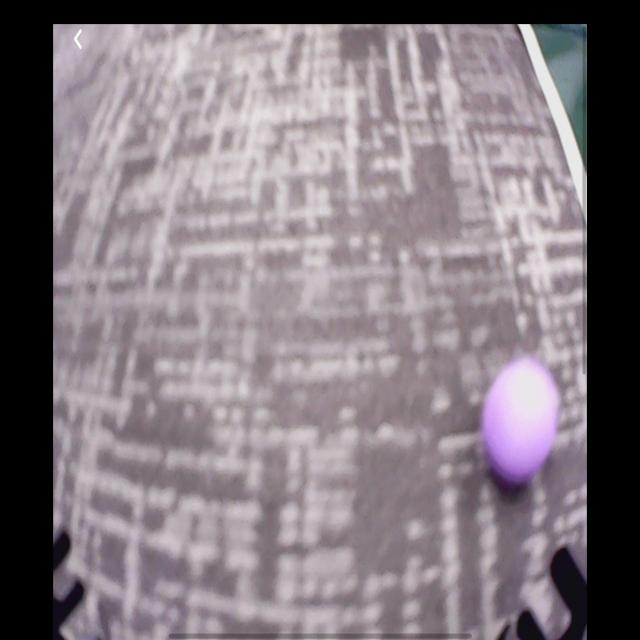ball: (483, 364, 563, 486)
